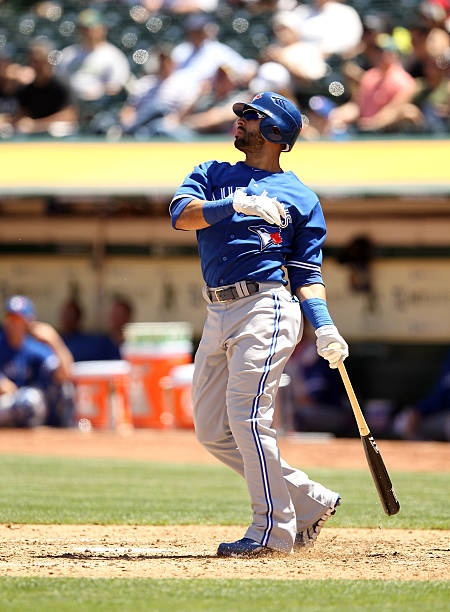bita: (329, 348, 403, 515)
